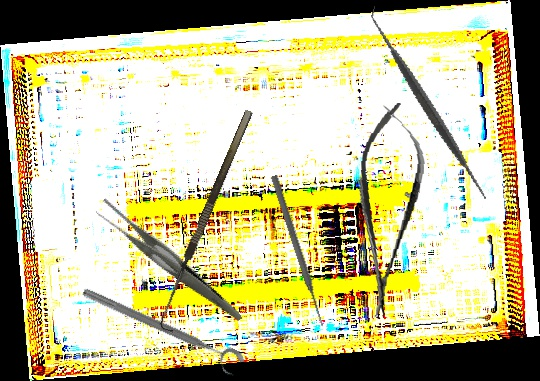Dressing Forceps: (92, 171, 243, 354)
Fixation Ring: (76, 283, 247, 380)
Hook Surgical: (153, 109, 265, 334)
Micro Scissor: (344, 99, 431, 321)
Pusher: (268, 174, 328, 328)
Spatula Surgical: (325, 5, 532, 209)
